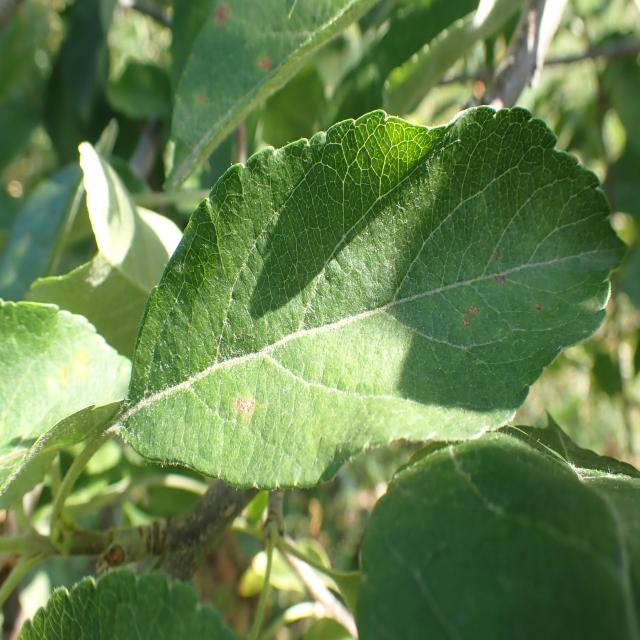scab: (144, 206, 590, 441)
